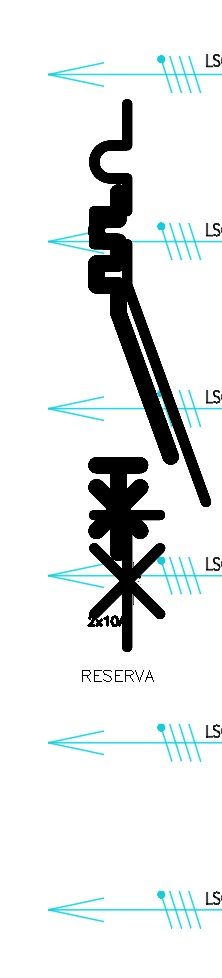interruptor_termomagnetico: (80, 90, 220, 661), (87, 183, 180, 562)
